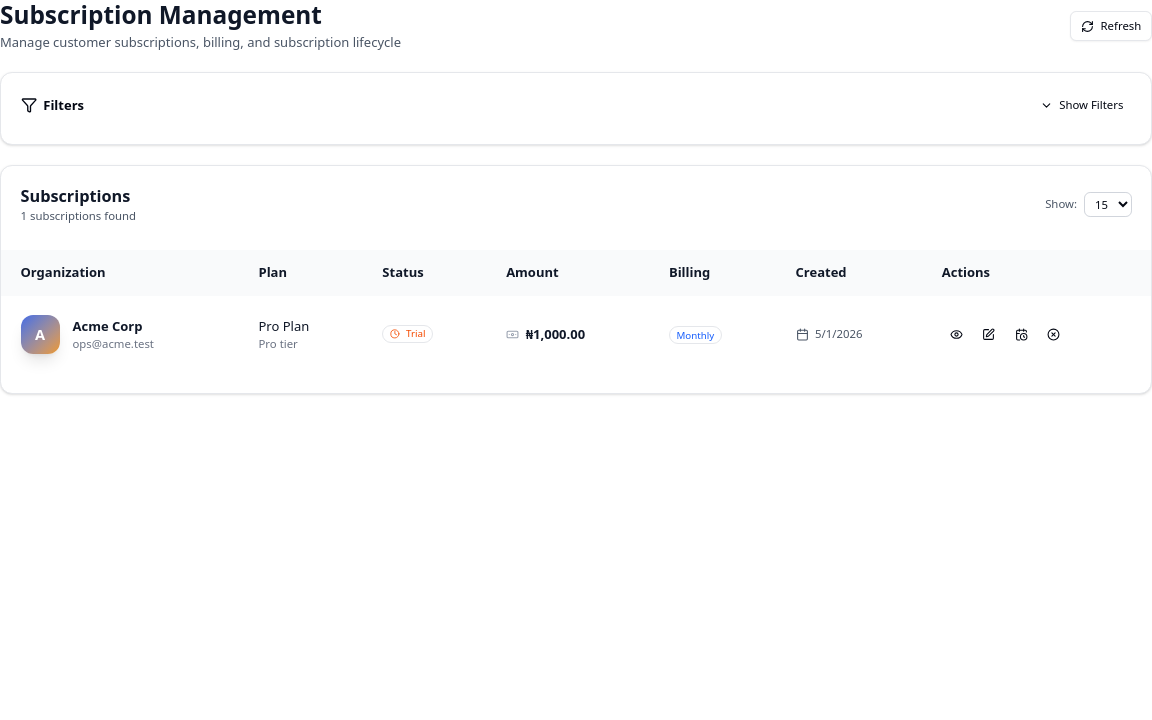
SubscriptionManagementPage – view & edit › opens the details modal when the View action is clicked (UAC-1)
This screenshot has width=1152, height=720.
Click the button named "view subscription" at (956, 334), box top-left (942, 322), bottom-right (971, 348)
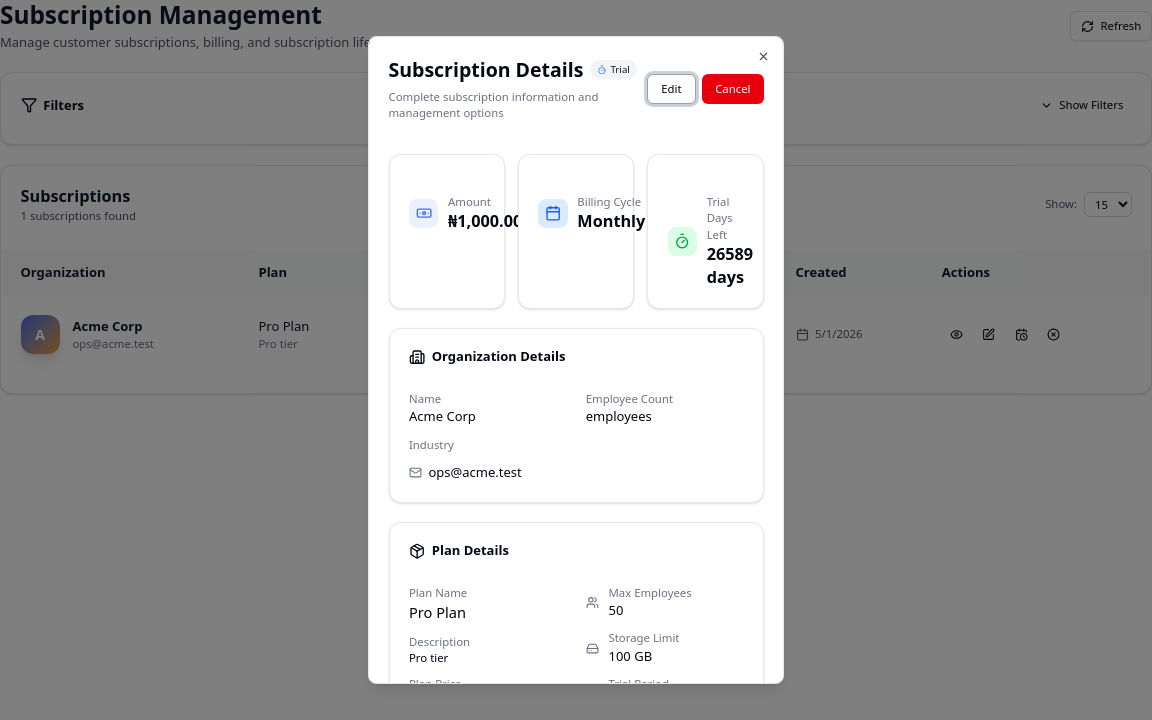
Check: the heading "Subscription Details Trial" is shown, box top-left (388, 56), bottom-right (647, 82)
Check: the text "Acme Corp" is shown, box top-left (409, 407), bottom-right (476, 425)
